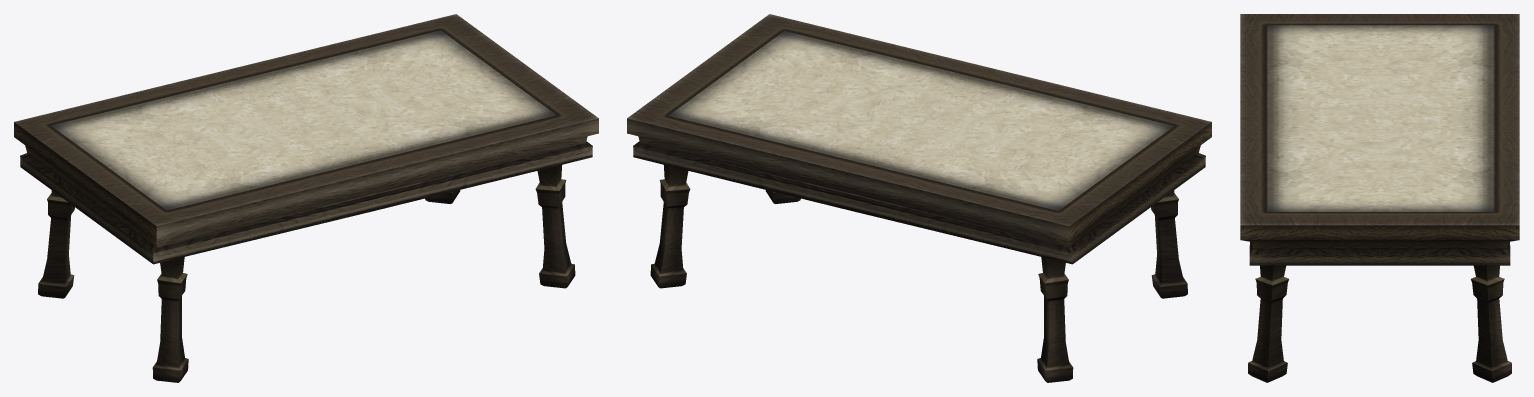
Rendered from ChicDiningTable_HD.fbx.
The picture shows the model from 3 angles, left to right: view 1: azimuth 30°, elevation 25°; view 2: azimuth 150°, elevation 25°; view 3: azimuth 270°, elevation 25°; orthographic projection. The views are drawn at different scales.
Parts seen in each view (by area): view 1: ChicDiningTable; view 2: ChicDiningTable; view 3: ChicDiningTable.
Boxes of the visible parts, x1,y1,x2,y2 form: ChicDiningTable: (14,14,598,382); ChicDiningTable: (627,14,1211,382); ChicDiningTable: (1240,14,1519,382).
Bounding box in the file's own units: 1.66 × 0.6004 × 0.925.
